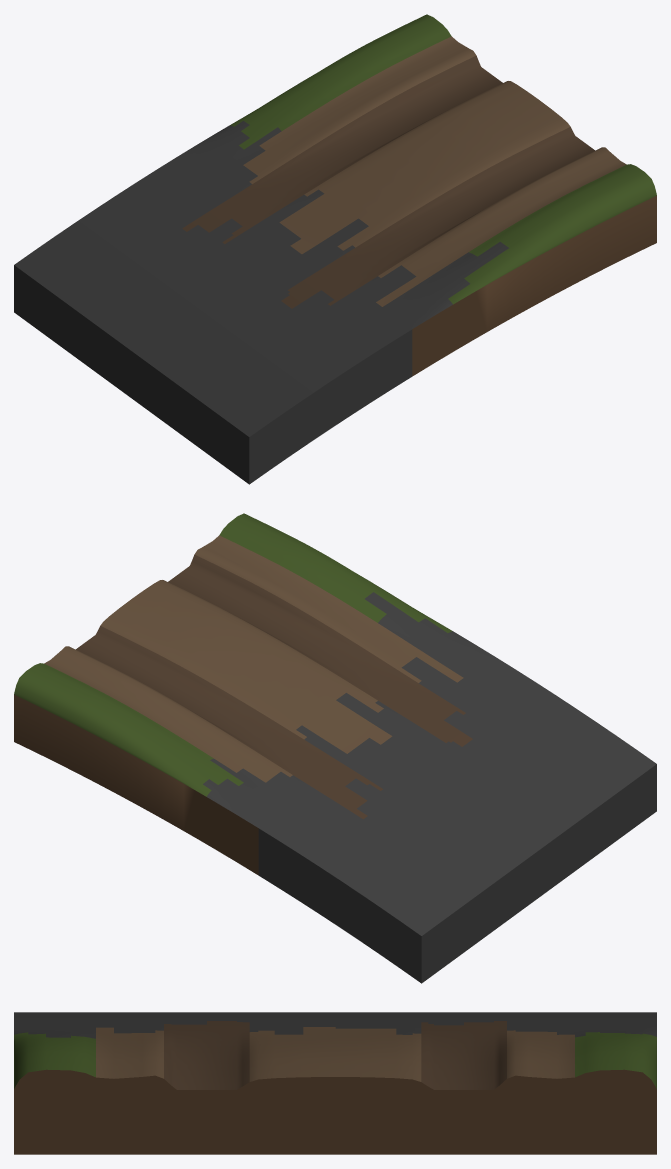
3 renders of one model, top to bottom at view 1: azimuth 30°, elevation 25°; view 2: azimuth 150°, elevation 25°; view 3: azimuth 270°, elevation 25°, orthographic. The views are drawn at different scales.
Parts seen in each view (by area): view 1: e12u; view 2: e12u; view 3: e12u.
Boxes of the visible parts, box(x1,y1,x2,y2) form: e12u: box(14, 14, 656, 484); e12u: box(14, 513, 656, 983); e12u: box(14, 1012, 656, 1154).
Size of the model in its own units: 9 by 4.31 by 9.
